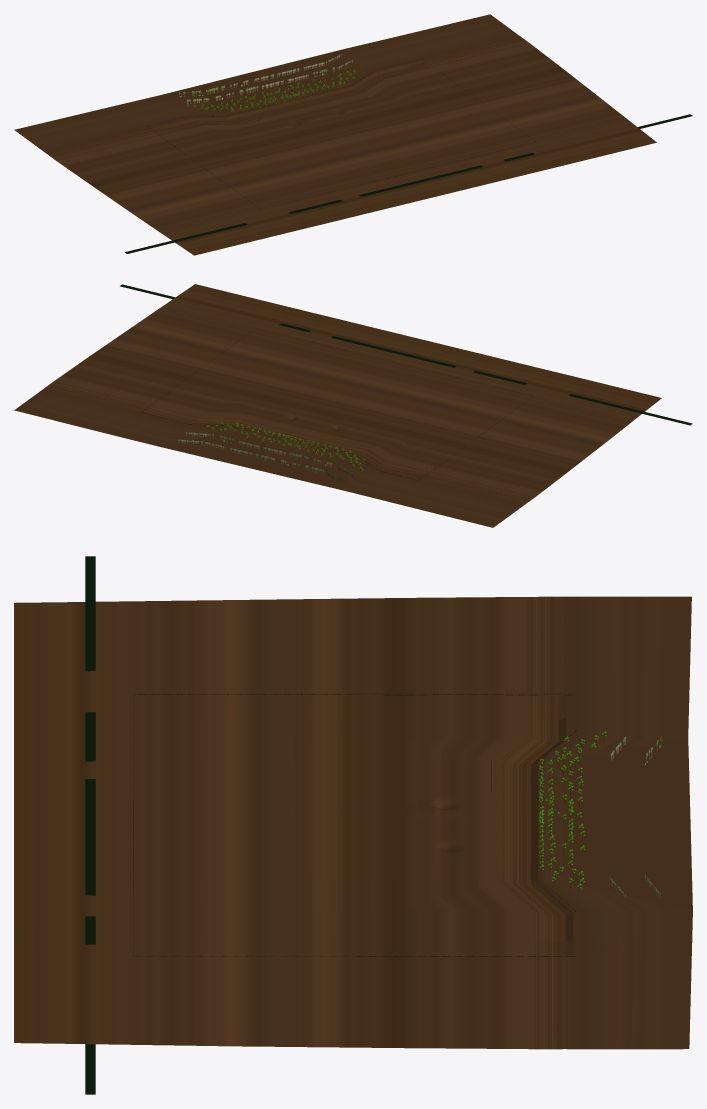
File: bunker.glb
3 renders of one model, top to bottom at view 1: azimuth 30°, elevation 25°; view 2: azimuth 150°, elevation 25°; view 3: azimuth 270°, elevation 25°, orthographic. The views are drawn at different scales.
Parts seen in each view (by area): view 1: Ground, Road.003; view 2: Ground, Road.003; view 3: Ground, Road.003.
Part boxes in pixels (<box>): Ground: <box>14,14,656,255</box>; Road.003: <box>125,114,692,253</box>; Ground: <box>14,284,661,527</box>; Road.003: <box>120,284,692,425</box>; Ground: <box>14,596,692,1049</box>; Road.003: <box>85,556,95,1094</box>.
Size of what is drawn, in the model's own units: 1000 by 14.21 by 533.
41 materials, 27 textured.
